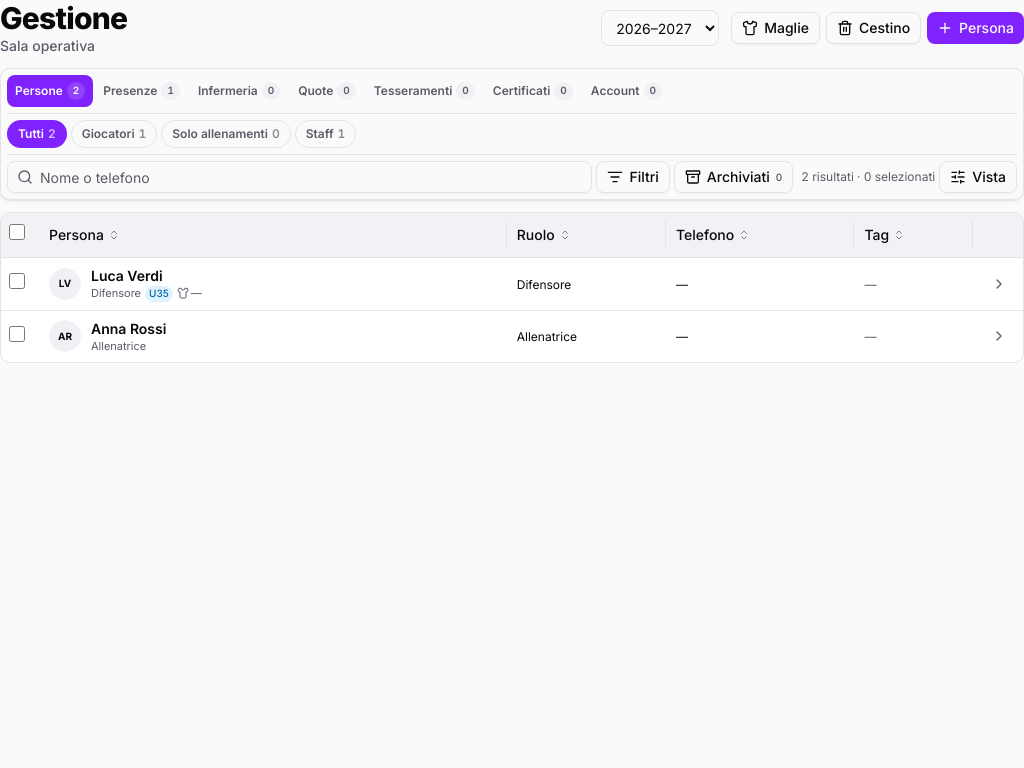
Test: ManagementDashboard operational state › clears column filters when the view changes
expect the table is shown: met, box [1,213,1023,362]
Click the button "Filtri". click: (633, 177)
box: [596,161,670,193]
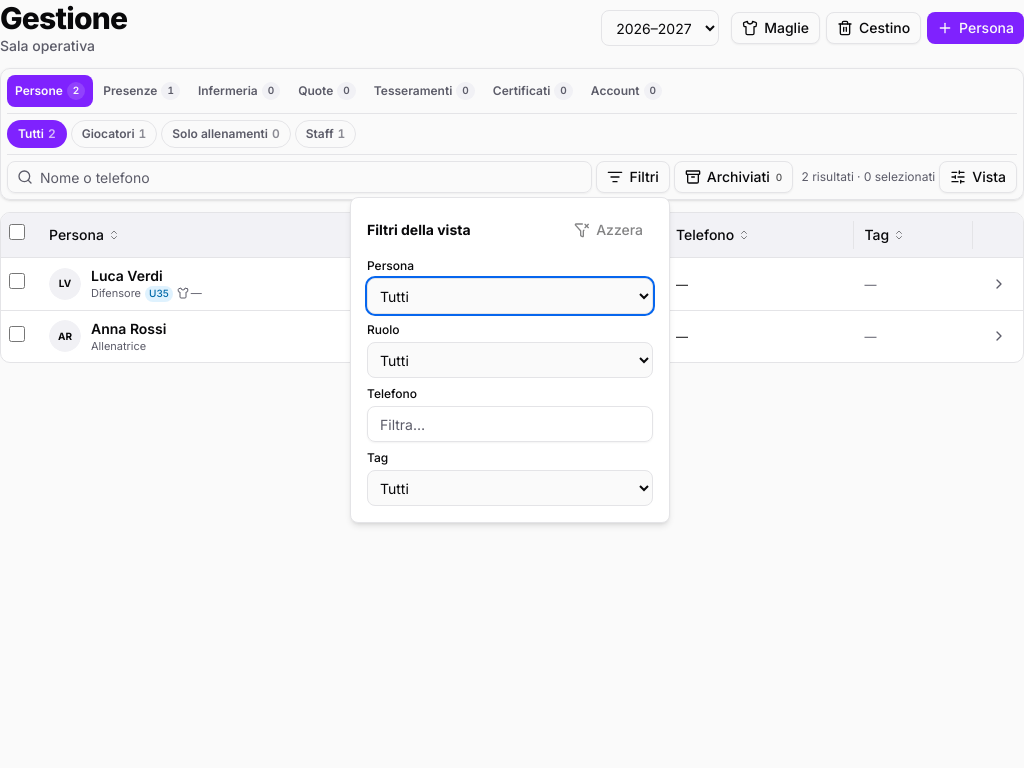
Select "Under 35" in the dropdown named "Filtra Persona". click: (510, 296)
box: [367,278,653,314]
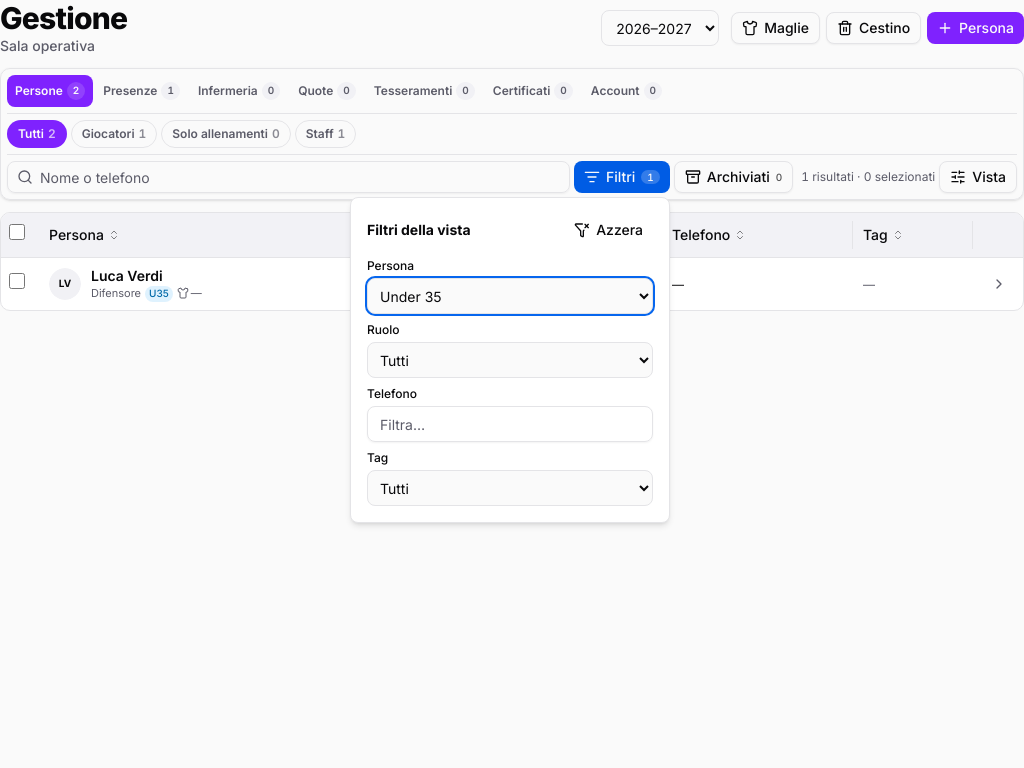
expect the text "1 risultati · 0 selezionati" is shown: met, box [797,169,935,185]
Click the tab "Quote 0". click: (327, 91)
box: [290,75,364,107]
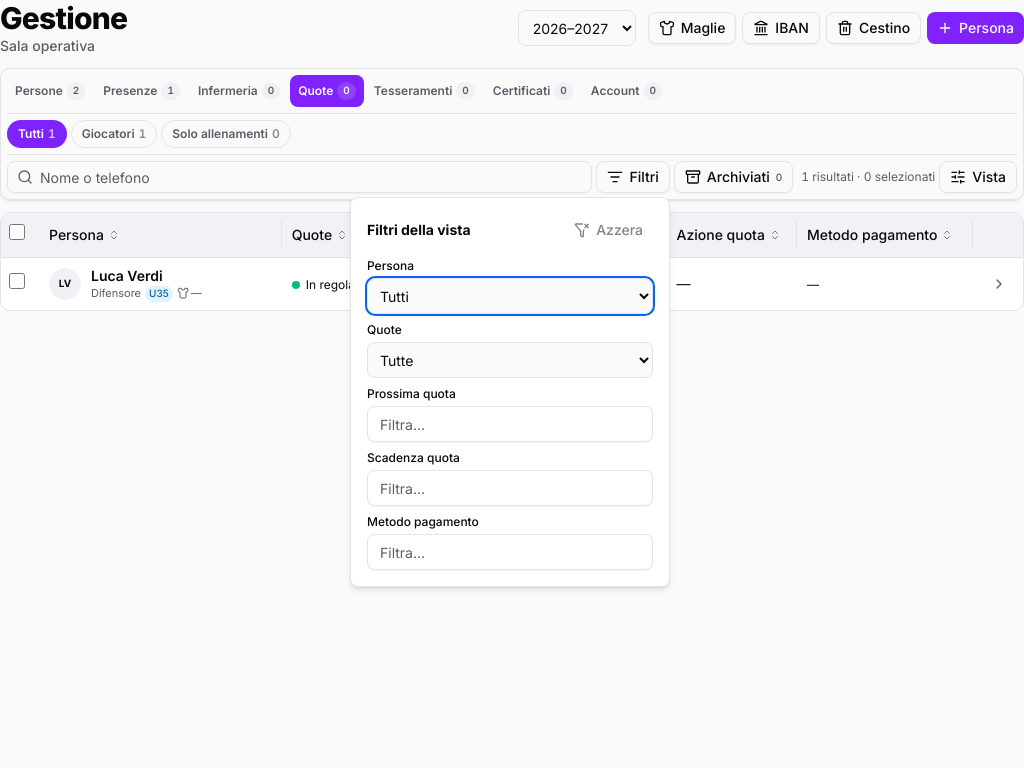
Click the tab "Persone 2". click: (50, 91)
box: [7,75,93,107]
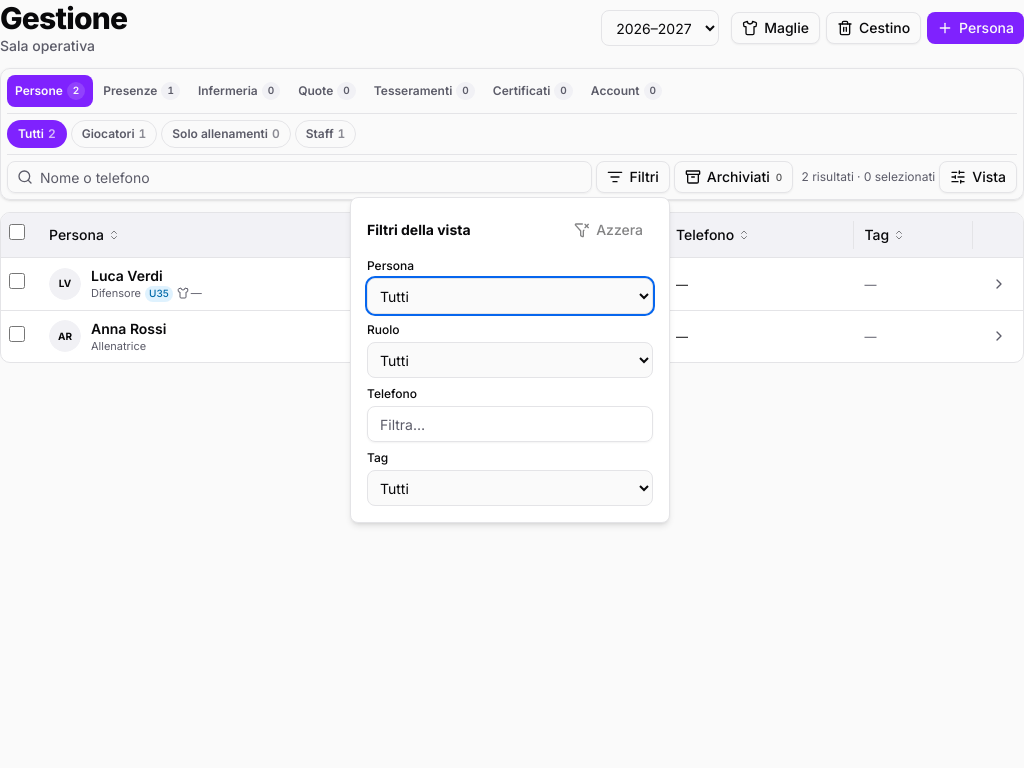
expect the text "2 risultati · 0 selezionati" is shown: met, box [797,169,935,185]
